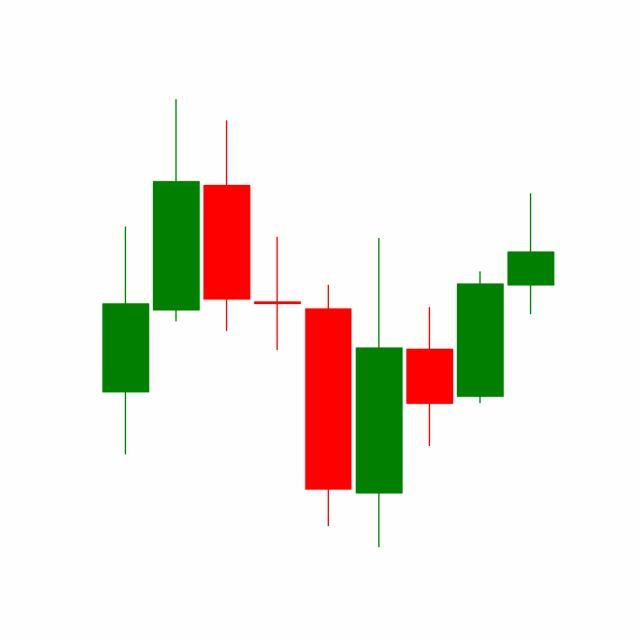Hikkake Pattern: (252, 233, 506, 549)
